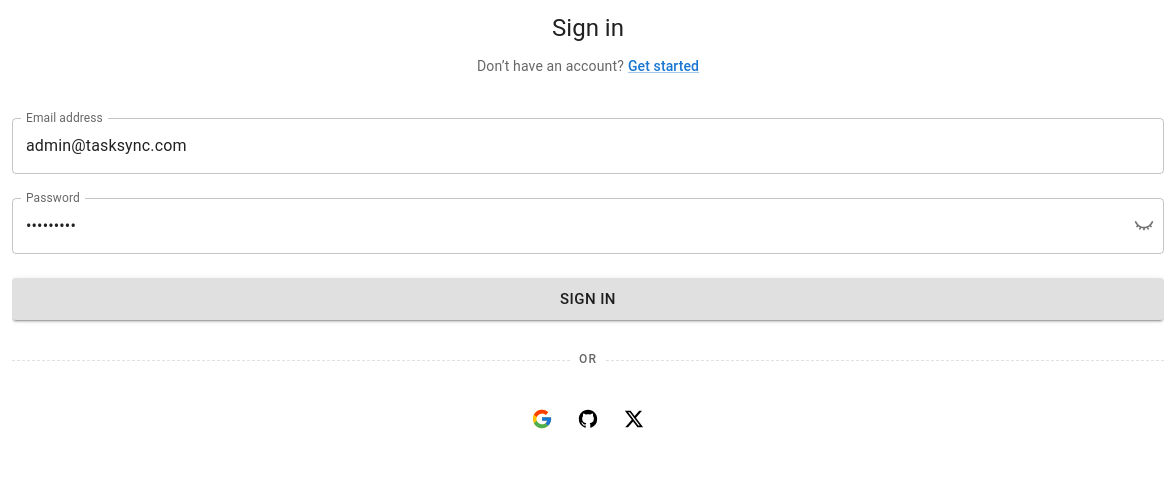
Test: <SignInView /> › shows error on network error
The image size is (1176, 480).
Click the button "Sign in". click: (588, 299)
box: x1=12 y1=278 x2=1164 y2=320
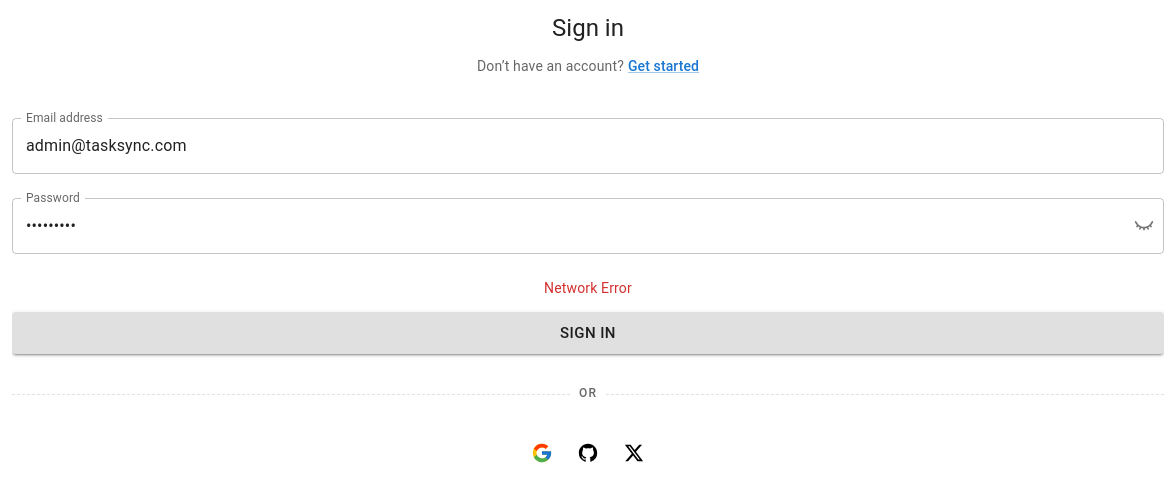
Now the text "Network Error" is shown, box x1=544 y1=278 x2=632 y2=298
